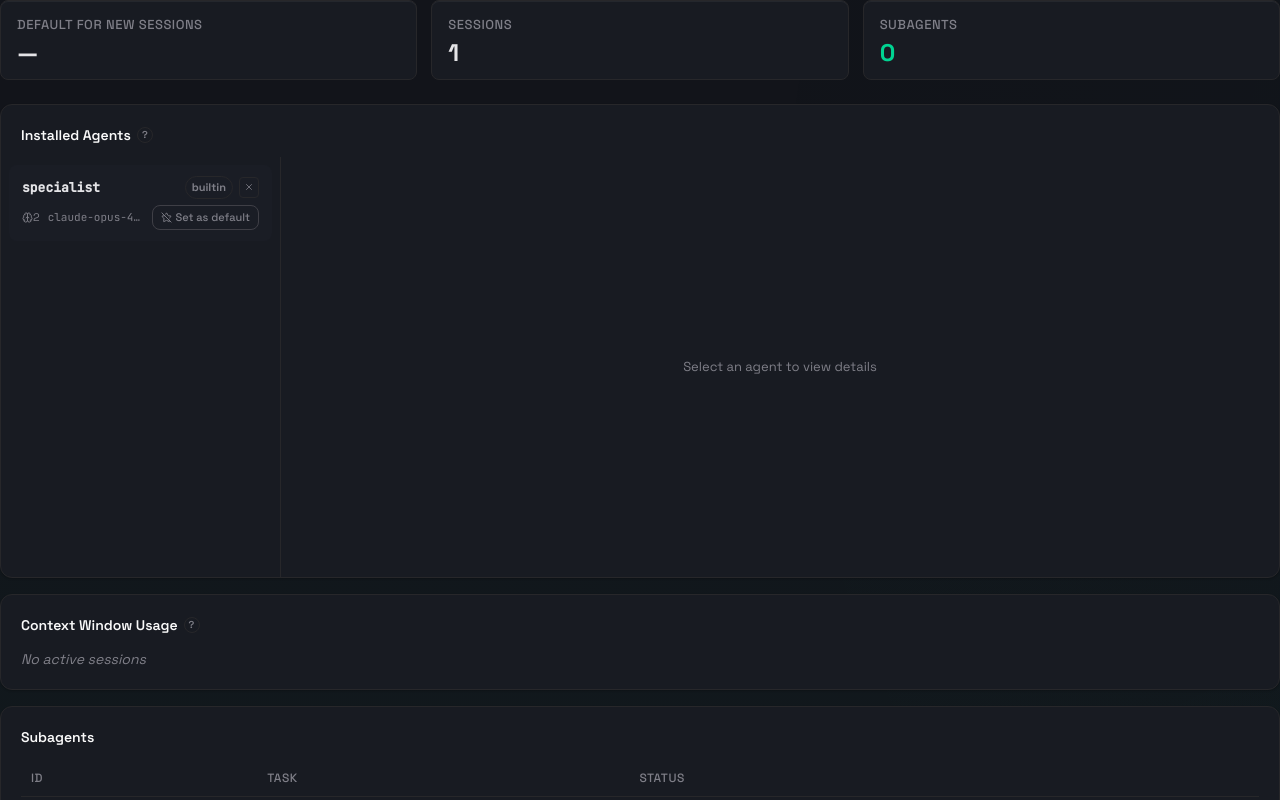
Test case: AgentsPage skills section › hides the editor — never an empty enabled one — when agent detail fails
This screenshot has width=1280, height=800.
The fallback only triggers on an explicit selection whose detail fetch fails.
Click the text "specialist" at [61, 187], box [22,179,100,196]
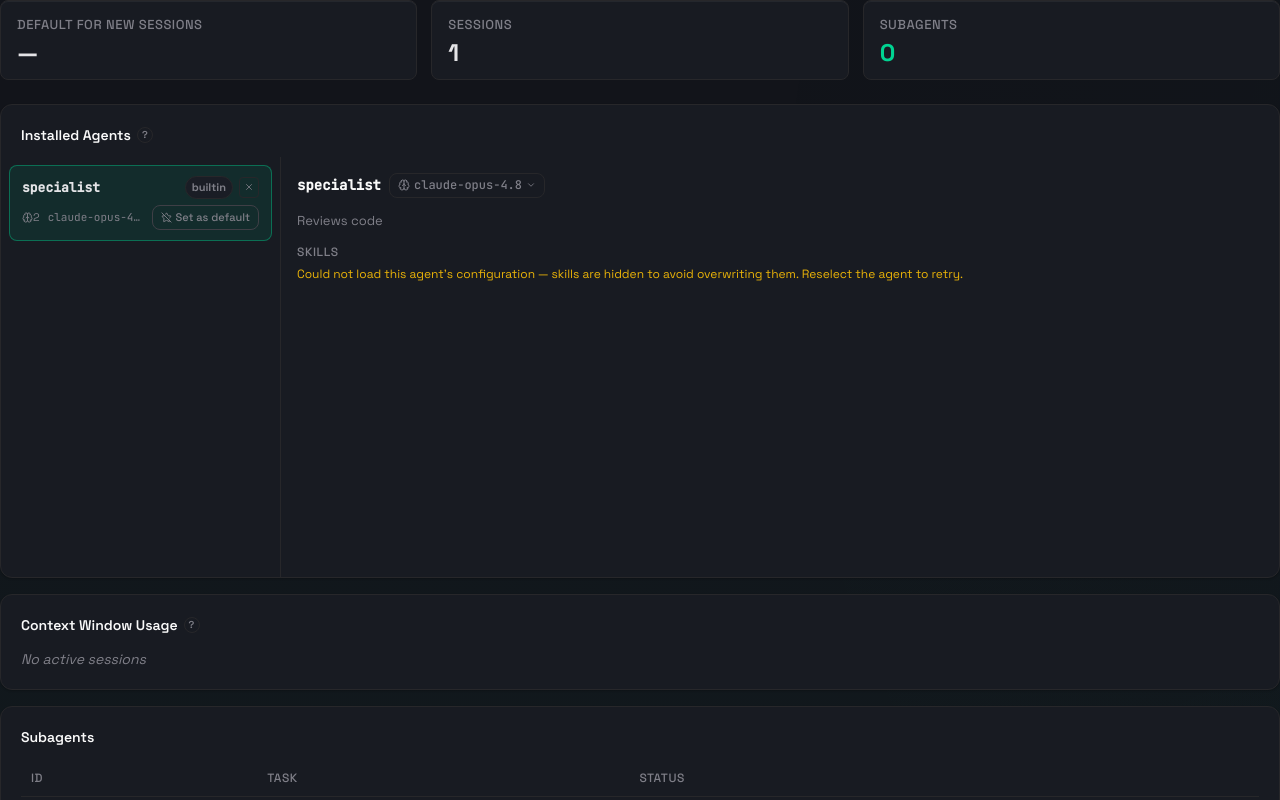
Expected: the text "Could not load this agent" is shown, [297,266,963,282]
